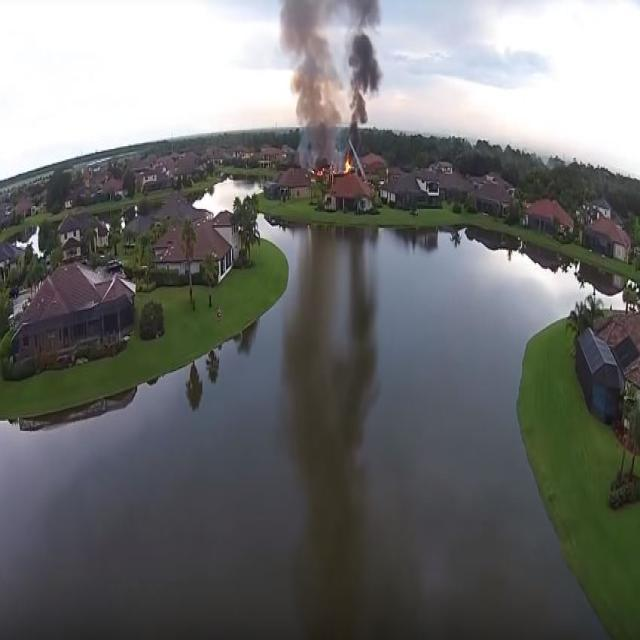Fire: (340, 150, 360, 176)
Smoke: (296, 21, 333, 133)
